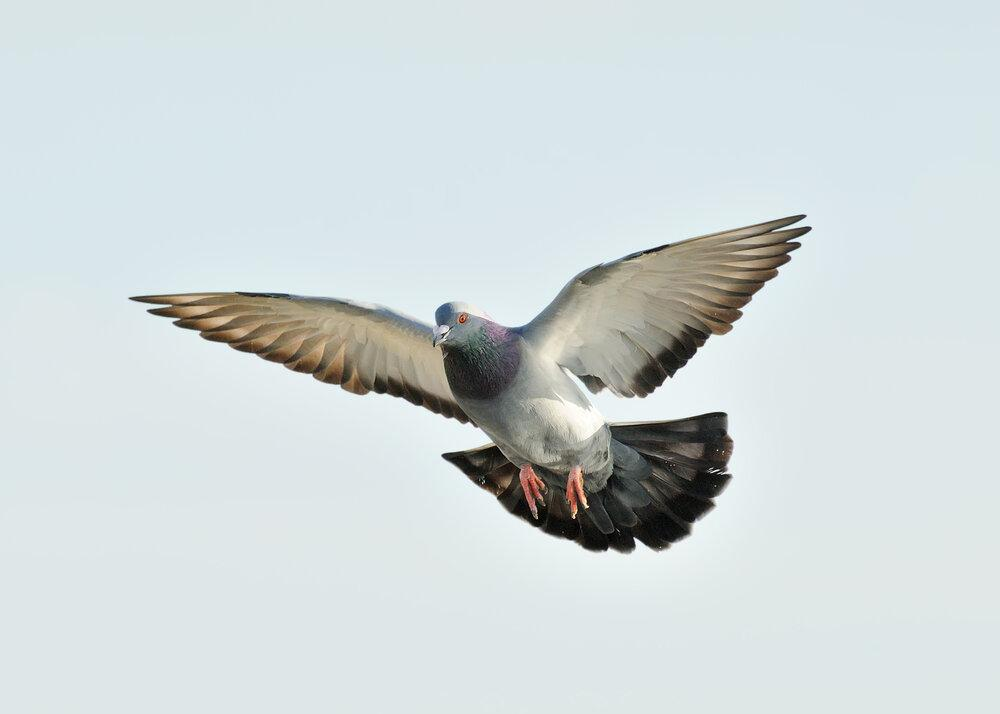Flying Rat: (126, 211, 822, 560)
